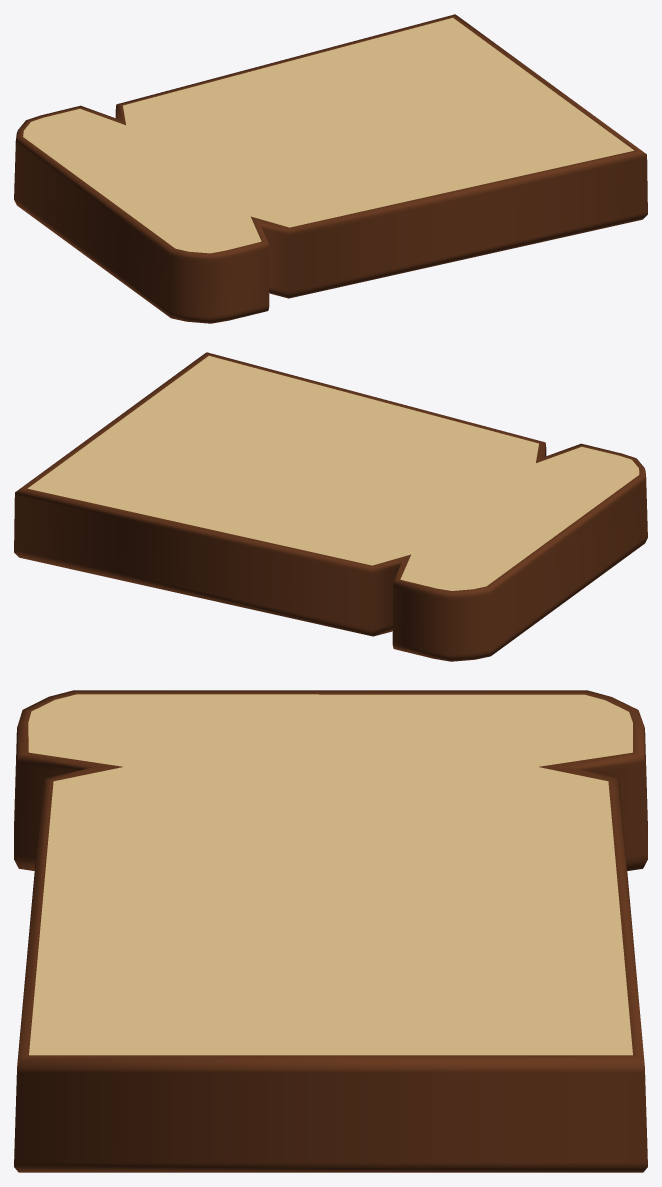
File: toastphysics.fbx
The picture shows the model from 3 angles, top to bottom: view 1: azimuth 30°, elevation 25°; view 2: azimuth 150°, elevation 25°; view 3: azimuth 270°, elevation 25°; orthographic projection. The views are drawn at different scales.
Parts seen in each view (by area): view 1: PhysicsMesh; view 2: PhysicsMesh; view 3: PhysicsMesh.
Boxes of the visible parts, bbox=[...] form: PhysicsMesh: bbox=[14, 14, 647, 323]; PhysicsMesh: bbox=[14, 352, 647, 661]; PhysicsMesh: bbox=[14, 690, 647, 1172].
Bounding box in the file's own units: 283 × 40.02 × 203.
